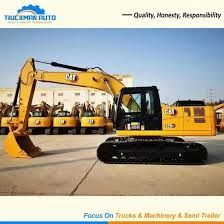excavator: (8, 45, 218, 185)
